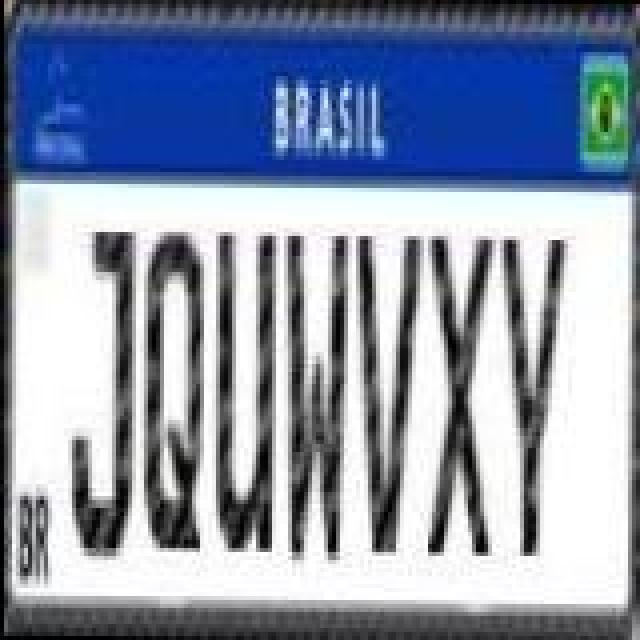J: (70, 228, 138, 564)
Q: (138, 222, 206, 558)
U: (210, 228, 278, 552)
V: (354, 232, 422, 556)
W: (278, 232, 346, 568)
X: (422, 232, 490, 556)
Y: (492, 234, 564, 558)
